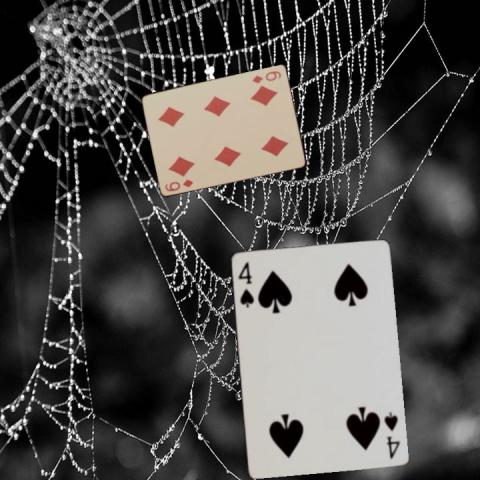4s: (380, 409, 401, 459), (235, 258, 255, 308)
6d: (249, 67, 283, 85), (162, 176, 195, 193)
